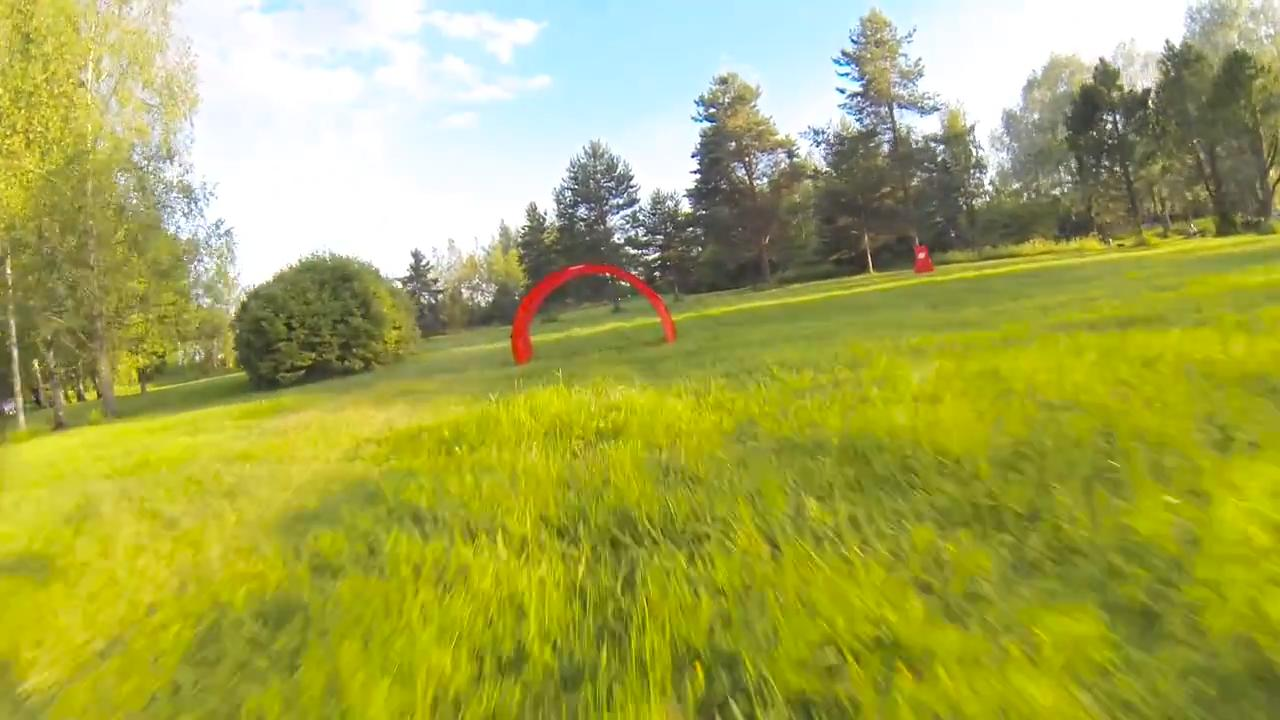gate: (505, 263, 684, 367)
